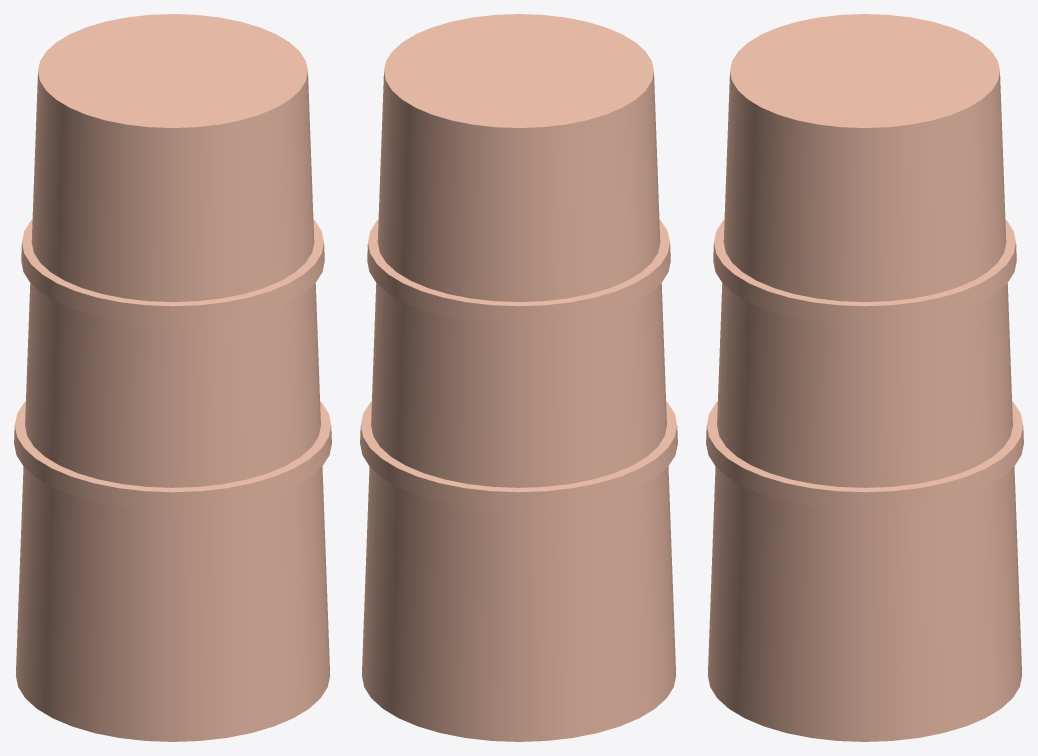
File: Castillo_Torre.fbx
3 renders of one model, left to right at view 1: azimuth 30°, elevation 25°; view 2: azimuth 150°, elevation 25°; view 3: azimuth 270°, elevation 25°, orthographic.
Parts seen in each view (by area): view 1: Castillo_Torre; view 2: Castillo_Torre; view 3: Castillo_Torre.
Part boxes in pixels (<box>): Castillo_Torre: <box>14,14,331,741</box>; Castillo_Torre: <box>360,14,677,741</box>; Castillo_Torre: <box>706,14,1023,741</box>.
Size of the model in its own units: 23097 by 48448 by 23097.
